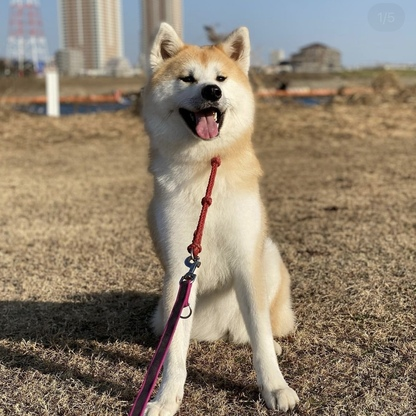akita: (135, 19, 307, 416)
